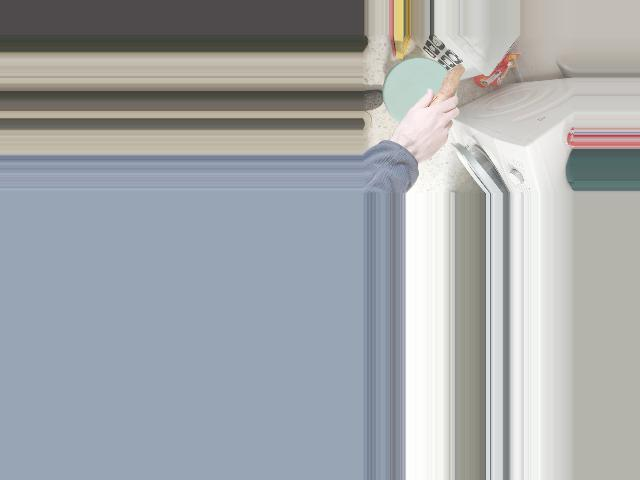sweet_potato: (410, 67, 465, 139)
